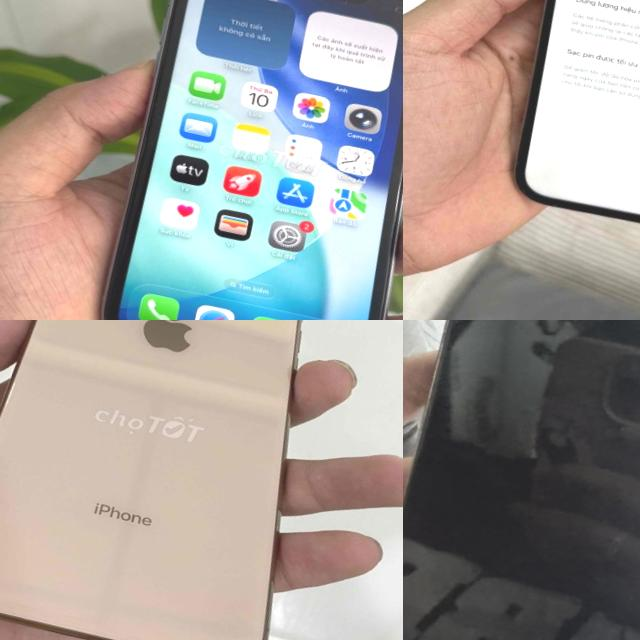gen_11: (80, 0, 403, 320), (403, 320, 640, 640)
gen_14: (478, 0, 640, 265)
gen_x_xs: (0, 320, 355, 640)
